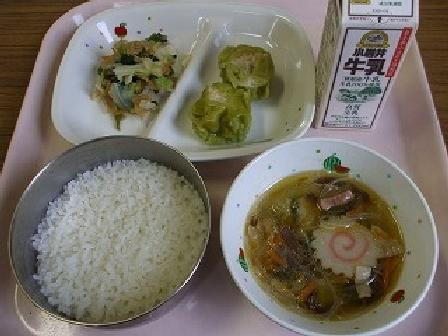Milk: (300, 0, 433, 127)
Rice: (9, 143, 210, 318)
Salad: (100, 21, 187, 124)
Soups: (231, 144, 436, 335)
manty: (184, 27, 279, 140)
